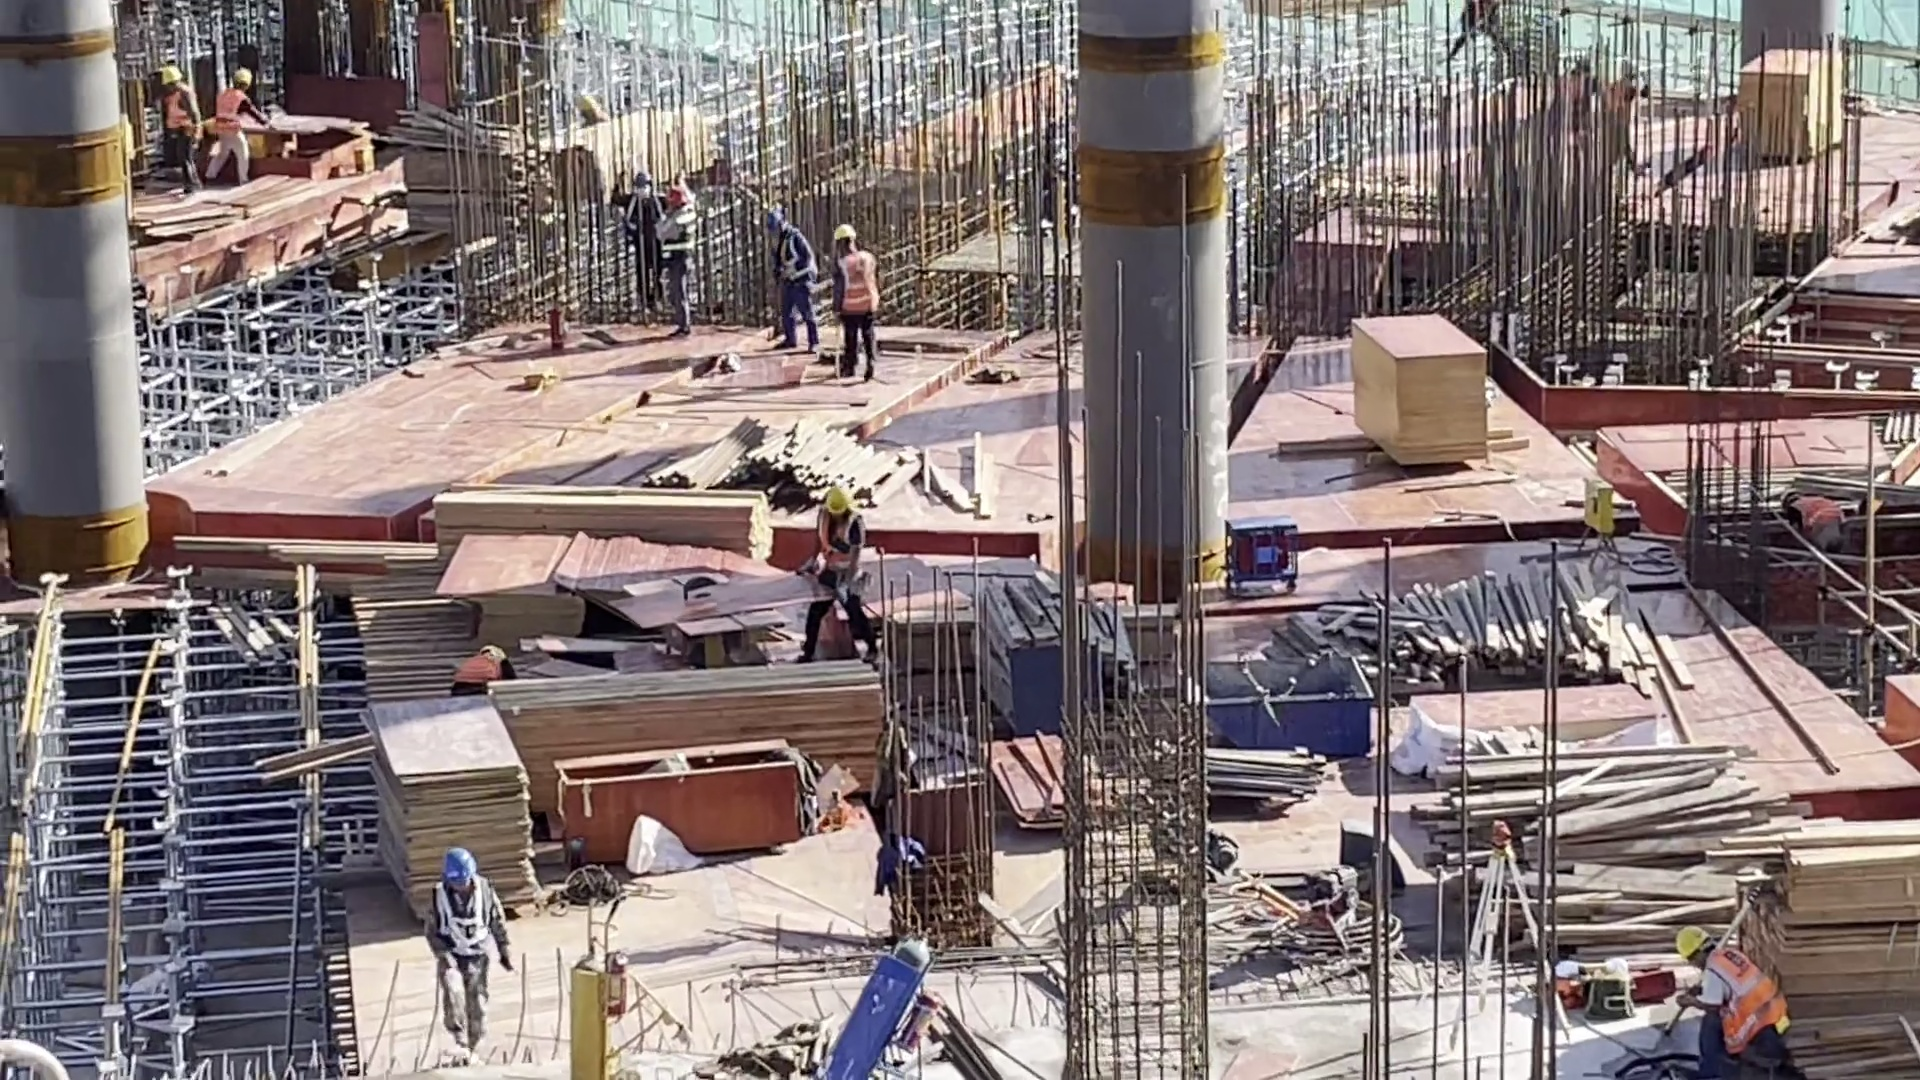helmet: (1670, 926, 1710, 961), (822, 485, 856, 514), (440, 847, 475, 876), (664, 184, 691, 207), (158, 65, 182, 85), (231, 68, 254, 89), (763, 211, 785, 232), (834, 225, 859, 242), (630, 174, 651, 189)
person: (425, 846, 513, 1062), (1661, 925, 1794, 1066), (791, 483, 868, 660), (832, 225, 880, 388), (763, 205, 814, 355), (610, 174, 659, 316), (658, 181, 700, 334), (212, 69, 270, 177), (1442, 1, 1521, 68), (156, 62, 195, 194), (1781, 486, 1848, 550), (446, 645, 511, 698)
vest: (1707, 949, 1786, 1055), (430, 879, 492, 971), (818, 511, 863, 593), (840, 250, 879, 318), (778, 233, 815, 293), (620, 194, 659, 241), (659, 208, 697, 257), (1793, 498, 1842, 531), (213, 89, 246, 133), (452, 655, 499, 683), (161, 88, 190, 129)
